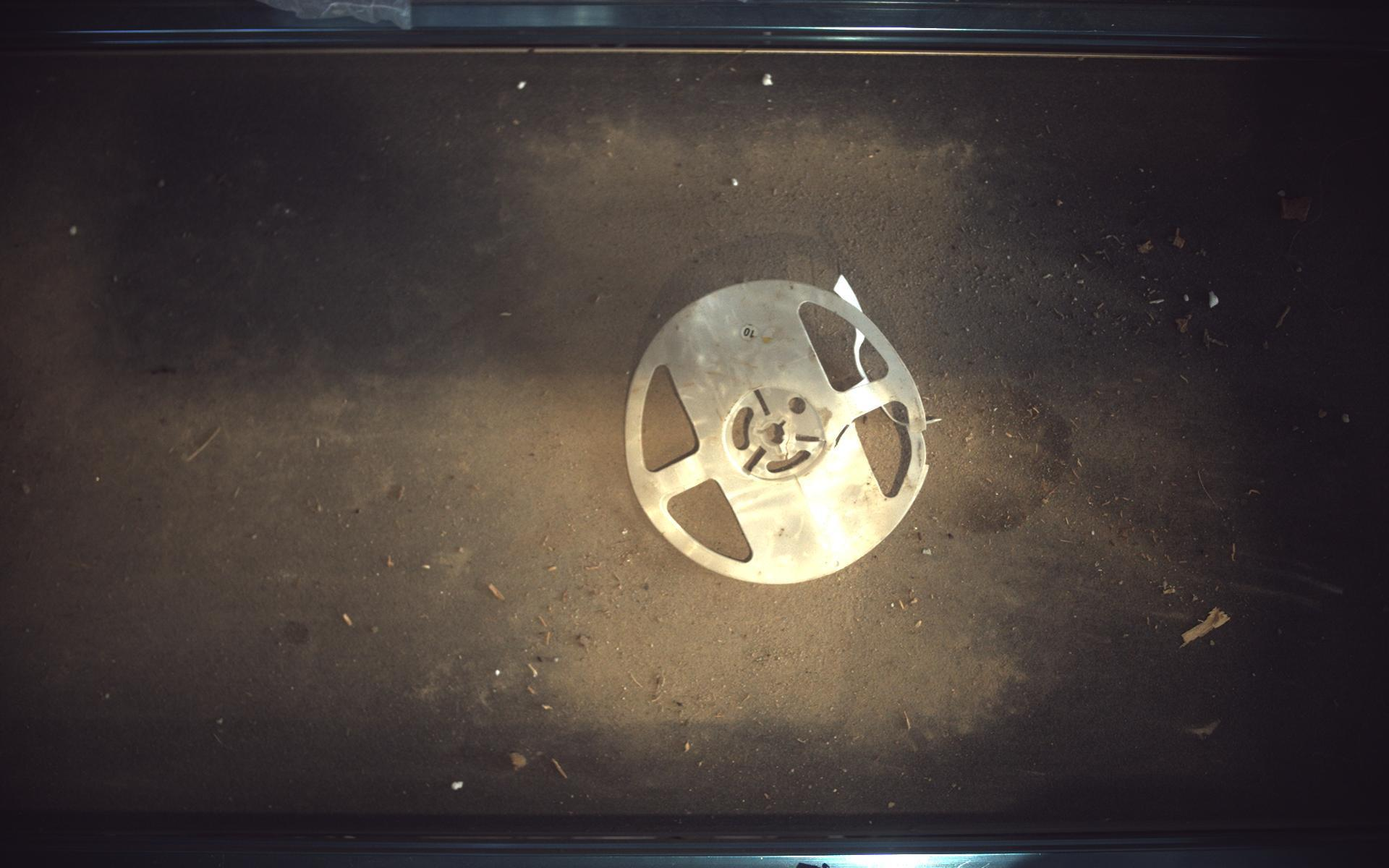plastic: (626, 276, 935, 584)
